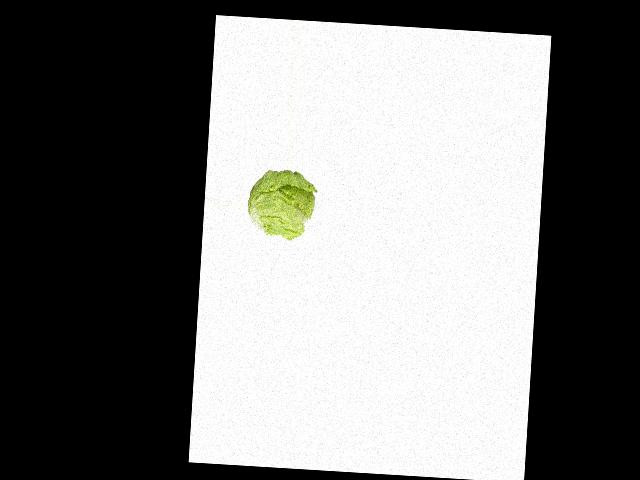lettuce: (244, 168, 317, 238)
